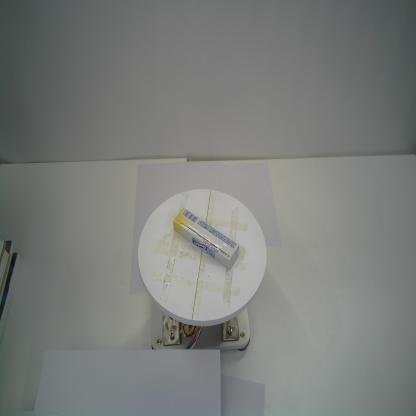Candy: (173, 207, 240, 270)
